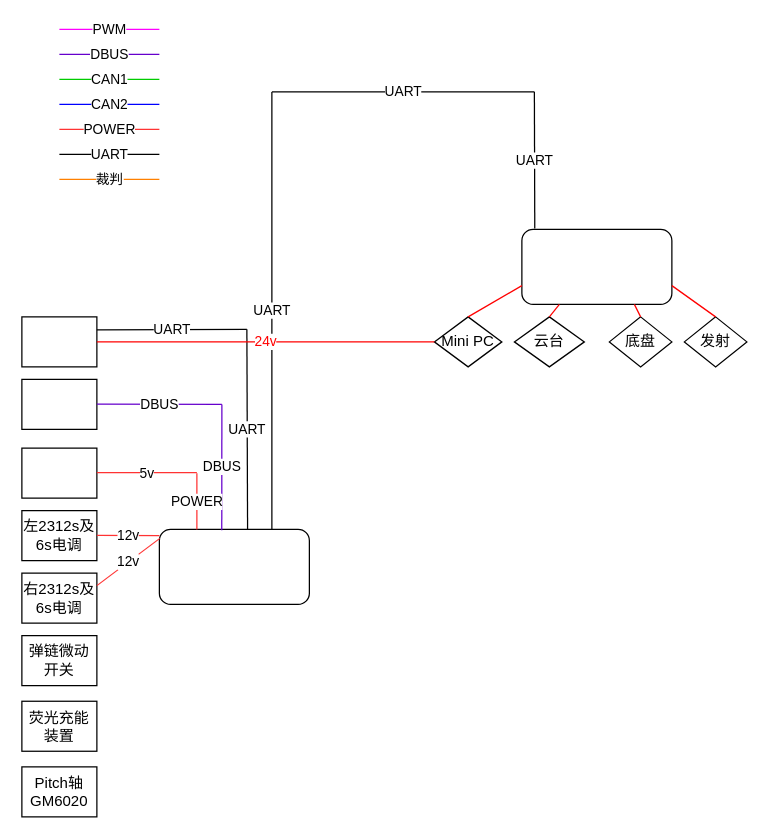
The diagram is 769 pixels wide and 839 high, and some of its shapes have lost their labels. The centre of each missing label's shape, as x and y in pixels:
"Mini PC及降压模块" goes at pixel 59 341.
"Robomaster A板" goes at pixel 233 566.
"电源管理模块" goes at pixel 596 266.
"红色镭射" goes at pixel 59 472.
"遥控器接收机" goes at pixel 59 403.
